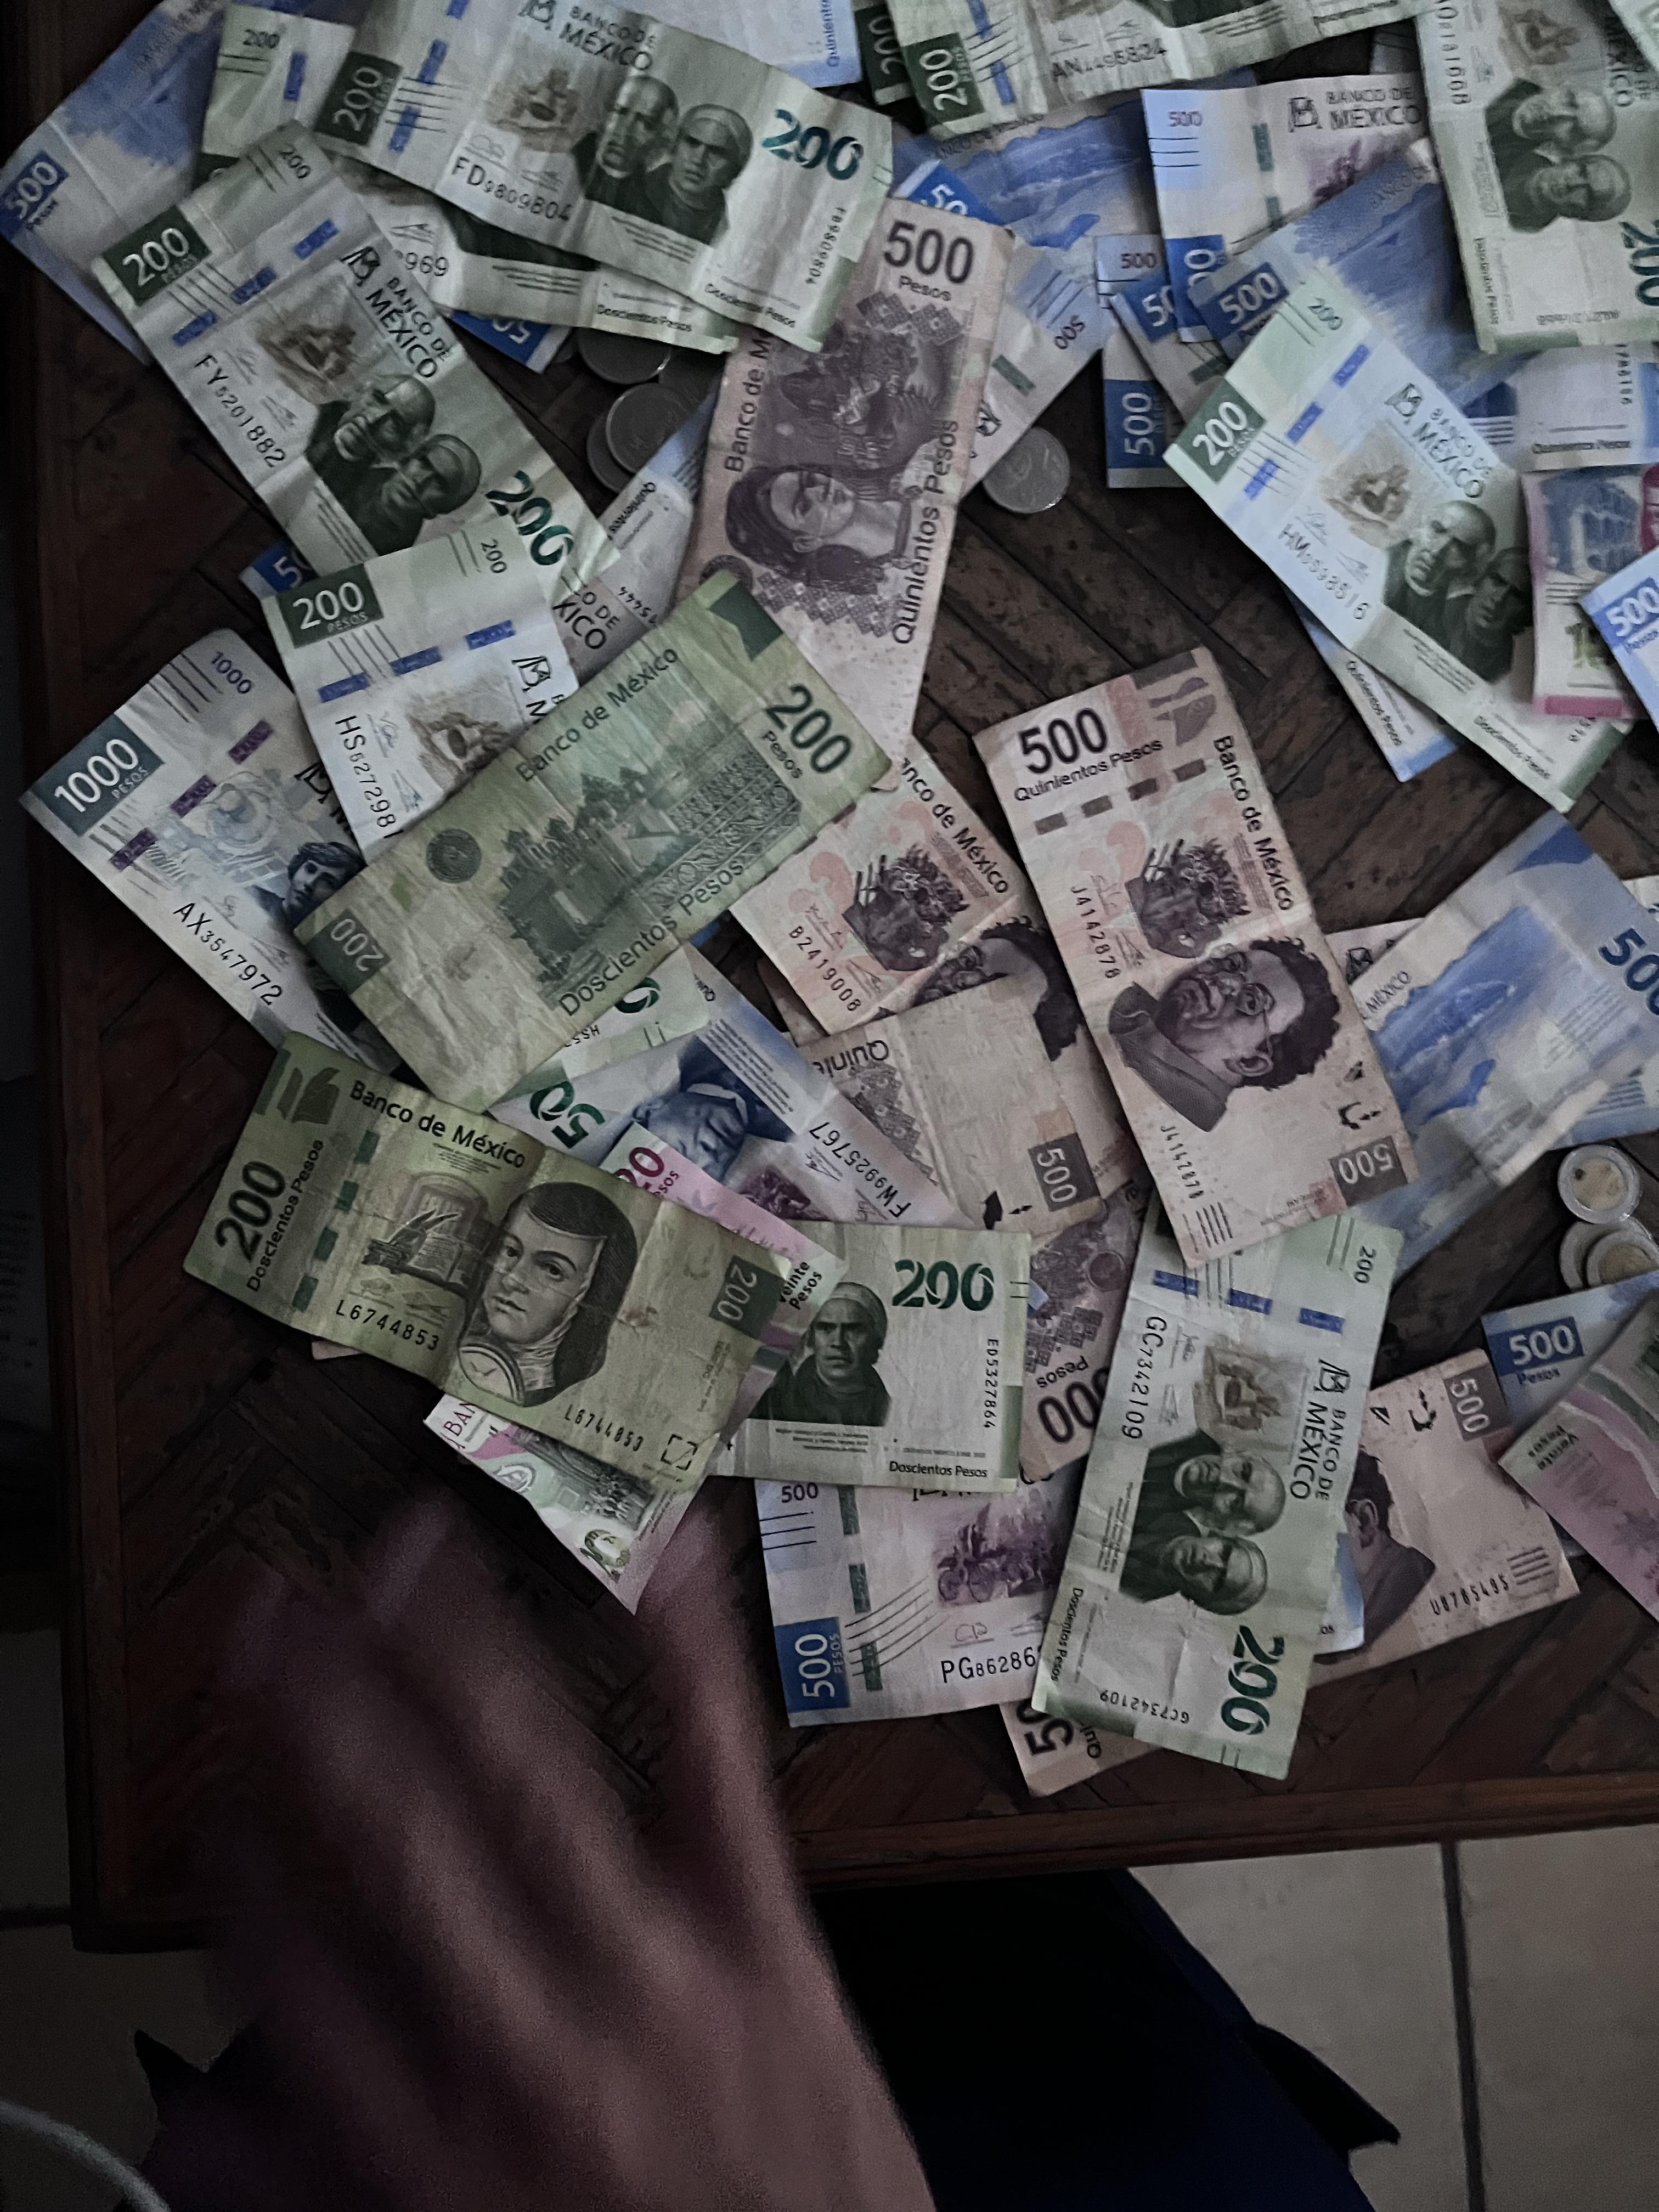1000: (14, 625, 477, 1132)
200: (277, 554, 915, 1109), (70, 122, 653, 639), (174, 1026, 758, 1505), (1140, 272, 1659, 808), (1021, 1172, 1434, 1794), (335, 0, 913, 333), (694, 1193, 1073, 1508), (247, 543, 613, 801), (1405, 2, 1659, 354), (882, 0, 1450, 146)
500: (951, 634, 1434, 1268), (688, 155, 1025, 773), (770, 728, 1138, 1198), (1314, 1345, 1586, 1688), (774, 977, 1112, 1231), (957, 1160, 1194, 1470)
500 nuevo: (535, 921, 979, 1273), (1342, 810, 1656, 1282), (1136, 75, 1532, 388), (760, 1409, 1126, 1735), (0, 2, 286, 368)
